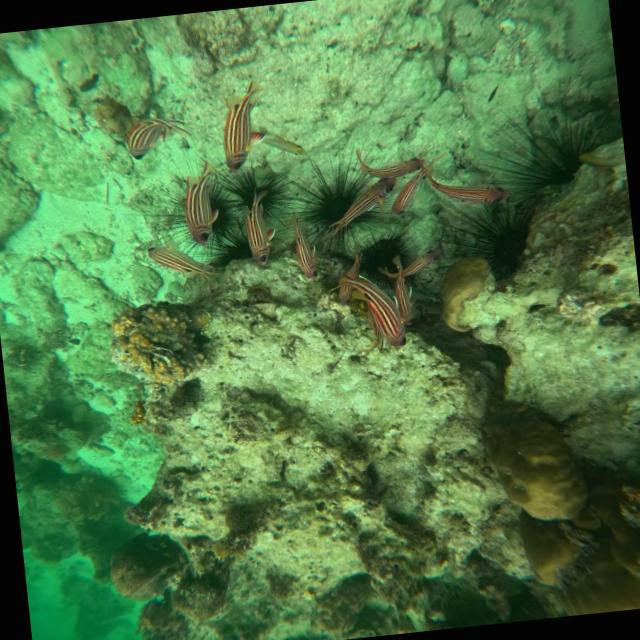Asker Baligi: (338, 267, 416, 355), (213, 87, 273, 174), (278, 206, 334, 298), (176, 170, 234, 247), (110, 113, 184, 172), (420, 170, 512, 212), (246, 184, 288, 275), (333, 174, 397, 222), (154, 238, 211, 276)
